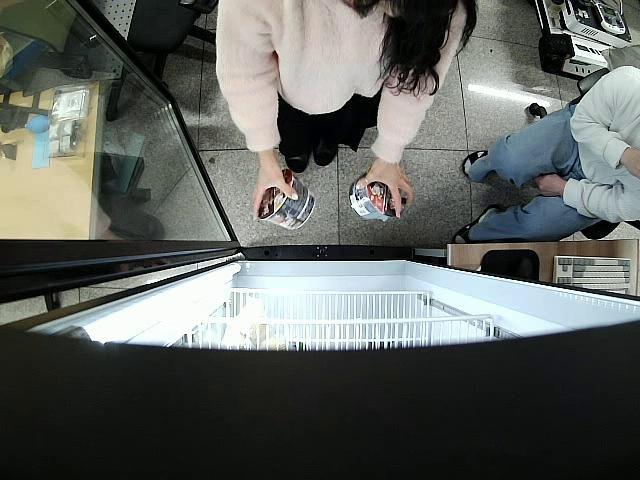07_buldak_L: (256, 168, 316, 232), (348, 174, 409, 224)
